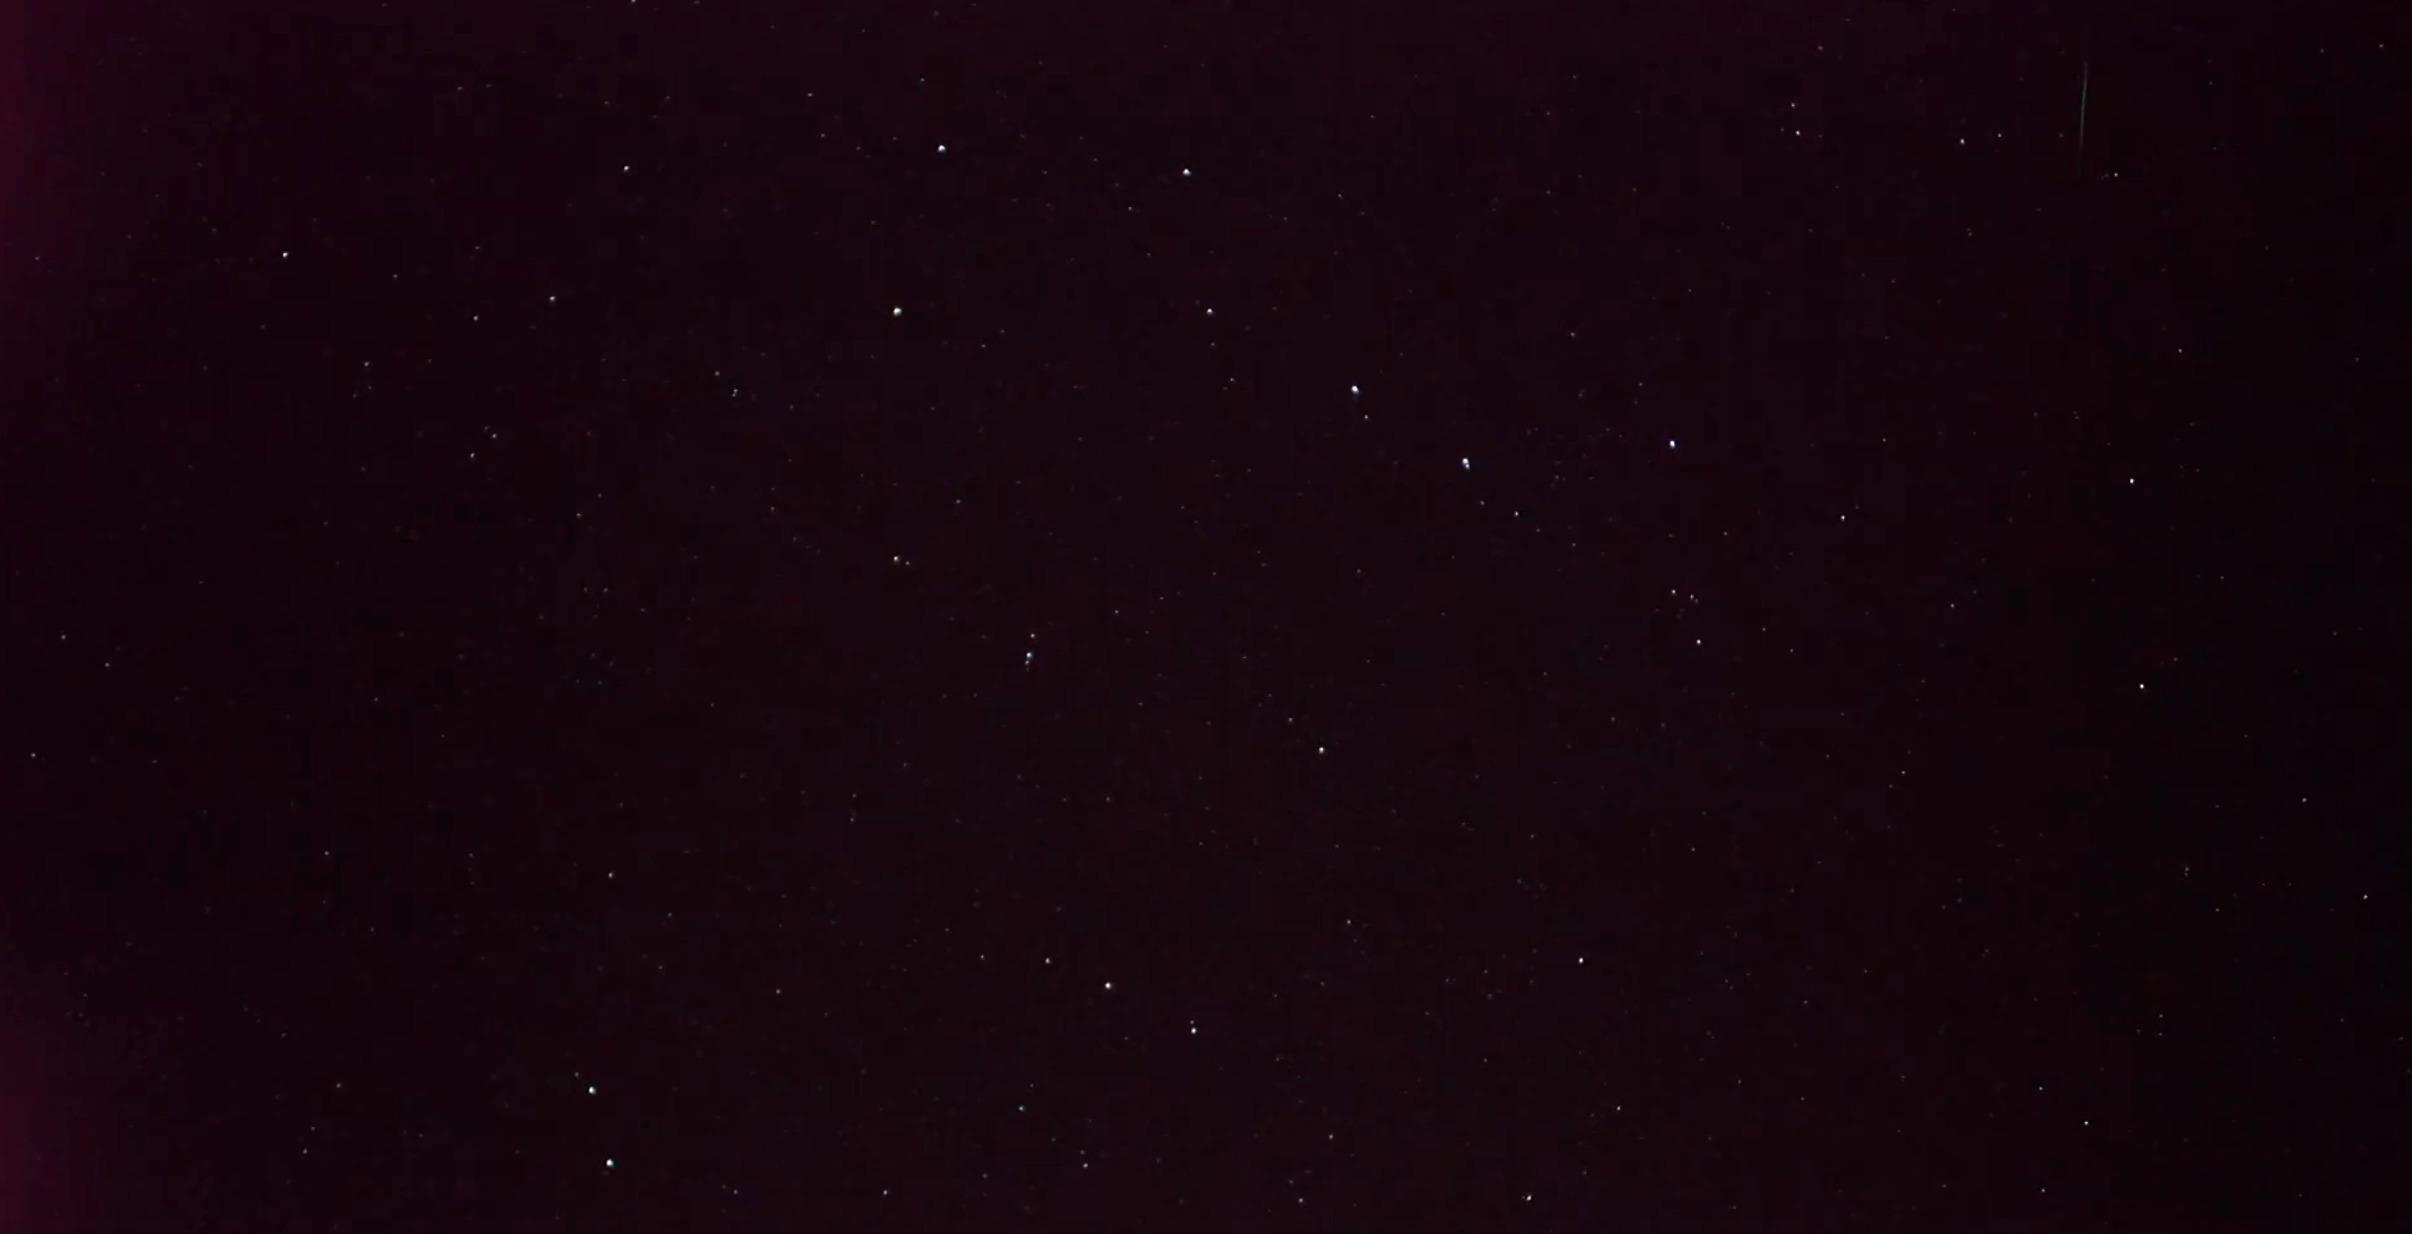meteorite: (2039, 39, 2119, 159)
